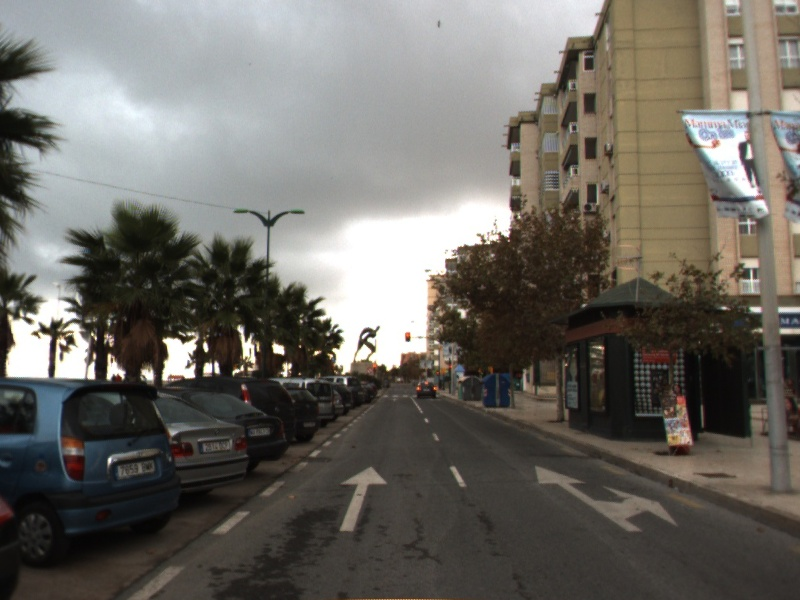STRAIGHT: (337, 464, 390, 533)
STRAIGHT_RIGHT: (533, 463, 680, 533)
